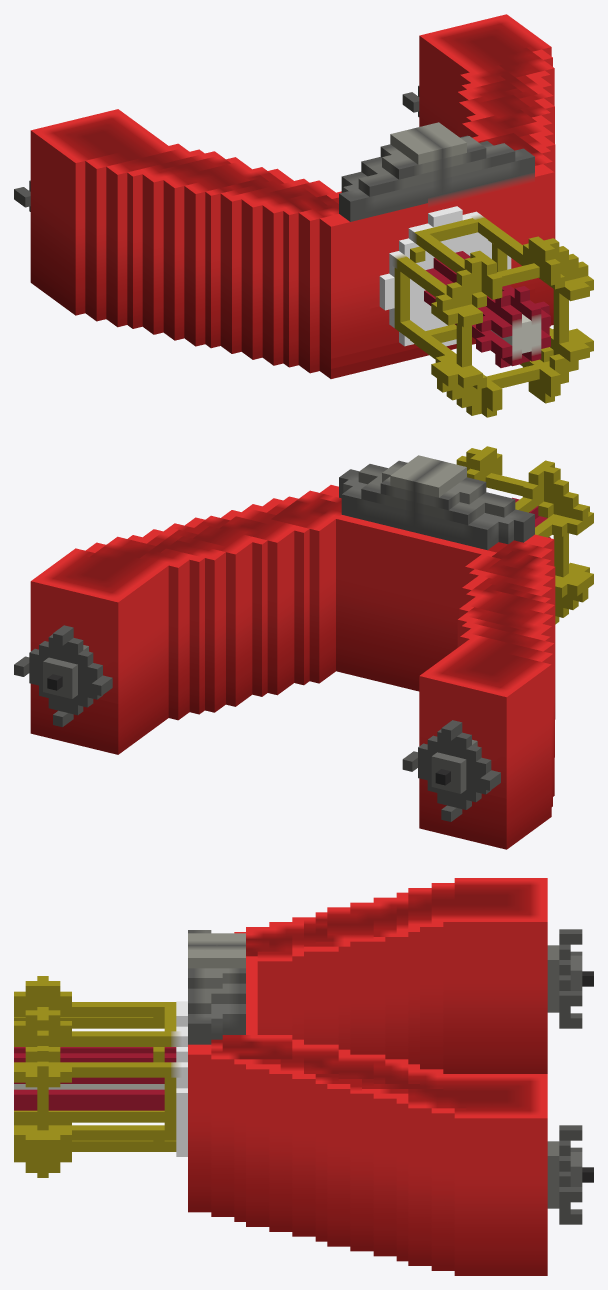
Rendered from RedBasicV1.3.dae.
The picture shows the model from 3 angles, top to bottom: view 1: azimuth 30°, elevation 25°; view 2: azimuth 150°, elevation 25°; view 3: azimuth 270°, elevation 25°; orthographic projection. The views are drawn at different scales.
Visible parts, largest first — view 1: RedBasicV1.3; view 2: RedBasicV1.3; view 3: RedBasicV1.3.
Part boxes in pixels (x1,y1,x2,y2): RedBasicV1.3: [14, 14, 593, 417]; RedBasicV1.3: [14, 446, 593, 849]; RedBasicV1.3: [14, 878, 593, 1275].
Size of the model in its own units: 49 by 20 by 50.
1 material, 1 textured.
